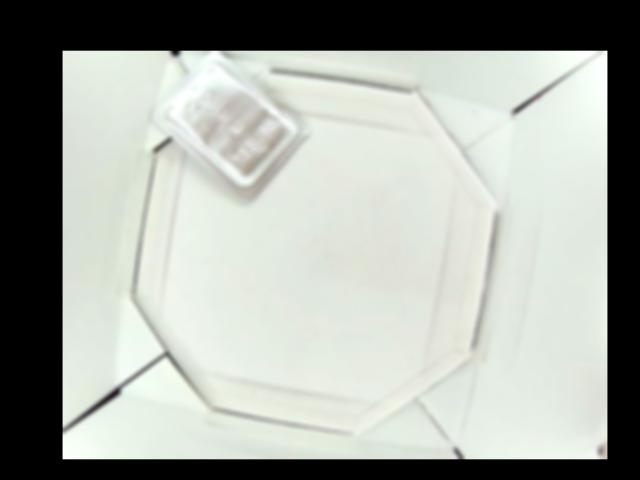Medicine: (148, 52, 312, 197)
